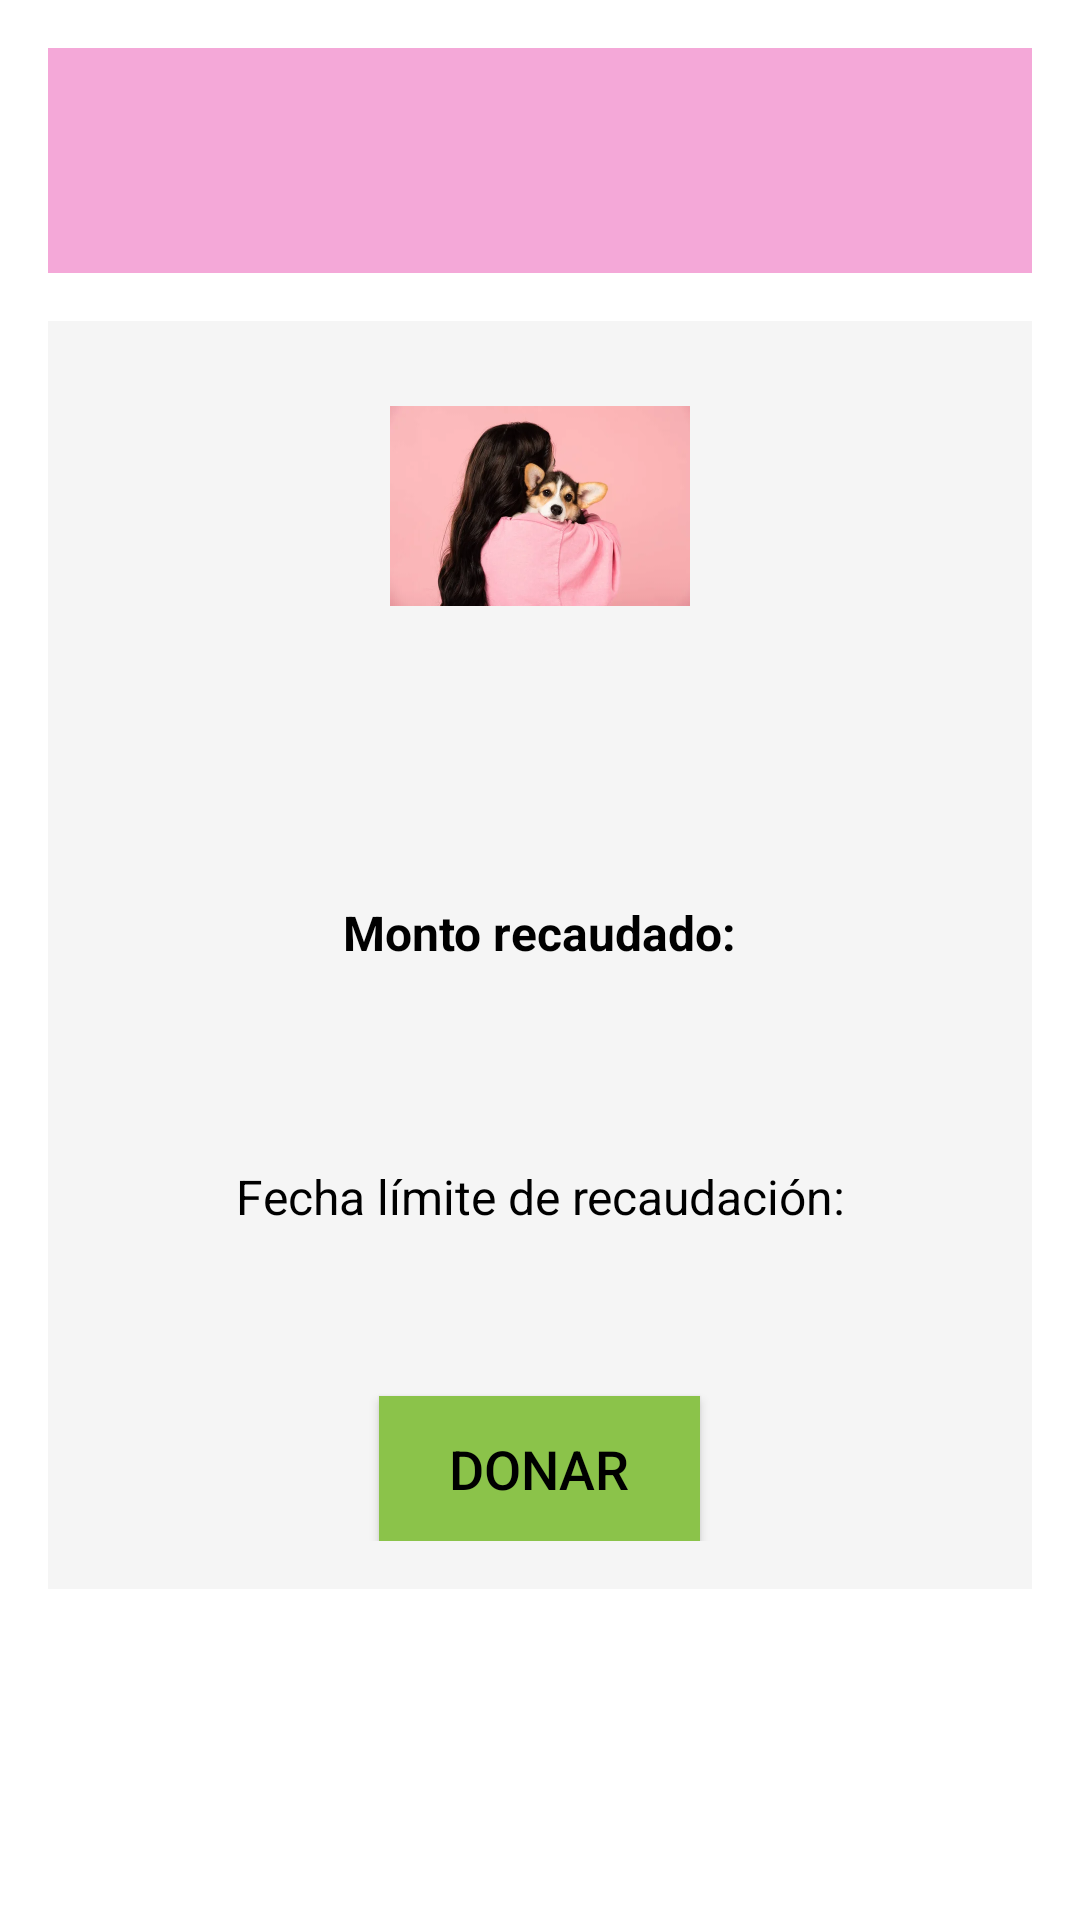

Where icons sit on this 1080*1920 app screen, as box(x1, y1, x2, y2):
animalrescue: box(390, 406, 690, 606)
